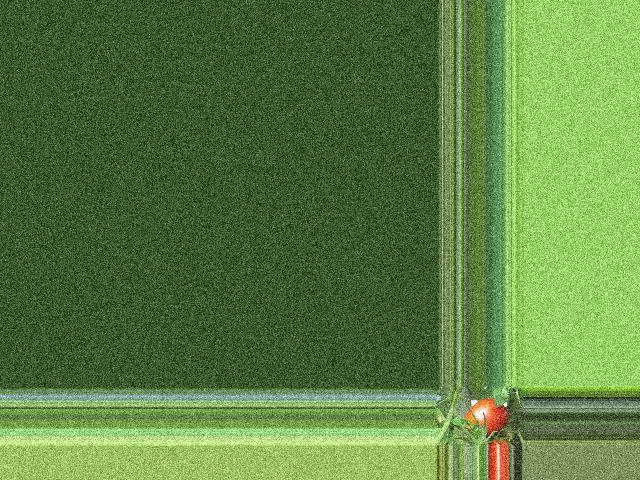tomato: (465, 398, 508, 435)
